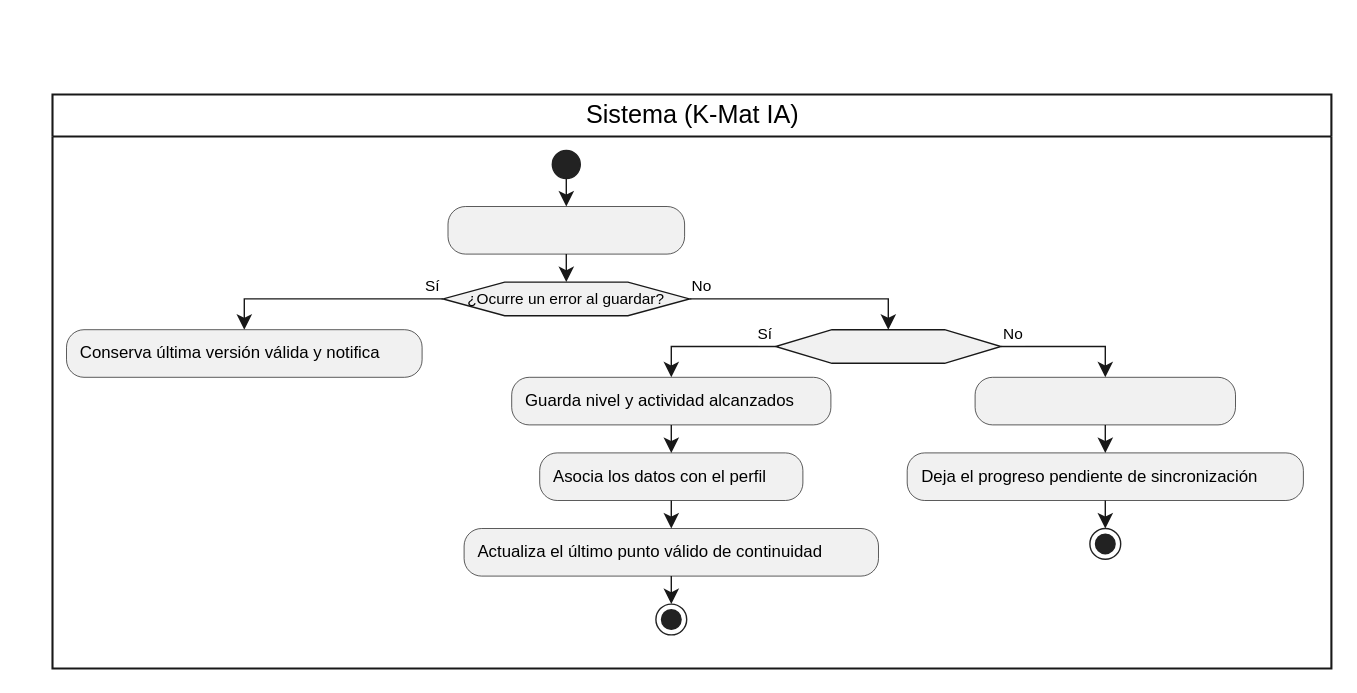
Some shapes in this 1357 by 693 pixel diagram are drawn without their labels. Here are the shapes that lost their labels. From the top down, the box of each, then its label:
(447, 206, 684, 254): Identifica progreso nuevo
(774, 328, 1001, 363): ¿Hay conexión a Internet?
(974, 376, 1235, 425): Guarda localmente los datos
